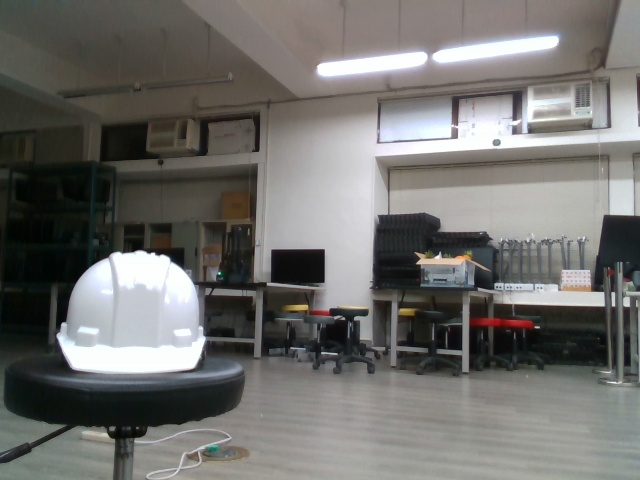helmet: (52, 245, 207, 375)
